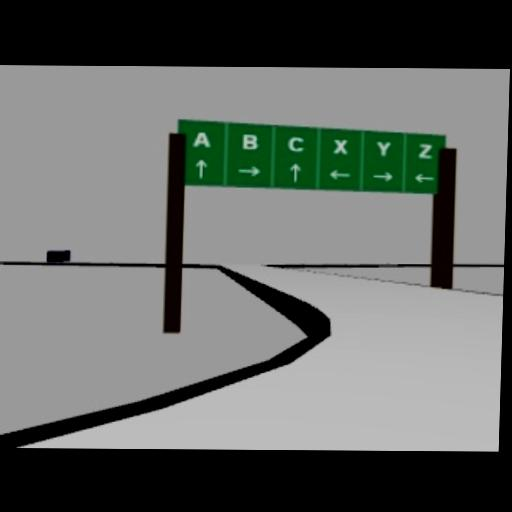A: (192, 129, 210, 146)
B: (241, 132, 259, 148)
C: (287, 133, 303, 151)
Left: (327, 168, 351, 179), (413, 171, 435, 181)
Right: (237, 164, 261, 175), (371, 170, 393, 180)
Straight: (194, 157, 208, 176), (289, 162, 301, 181)
X: (333, 137, 349, 154)
Y: (375, 140, 390, 156)
Z: (417, 141, 432, 157)
